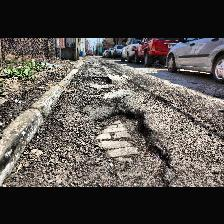pothole: (87, 110, 175, 186), (90, 74, 112, 84)
